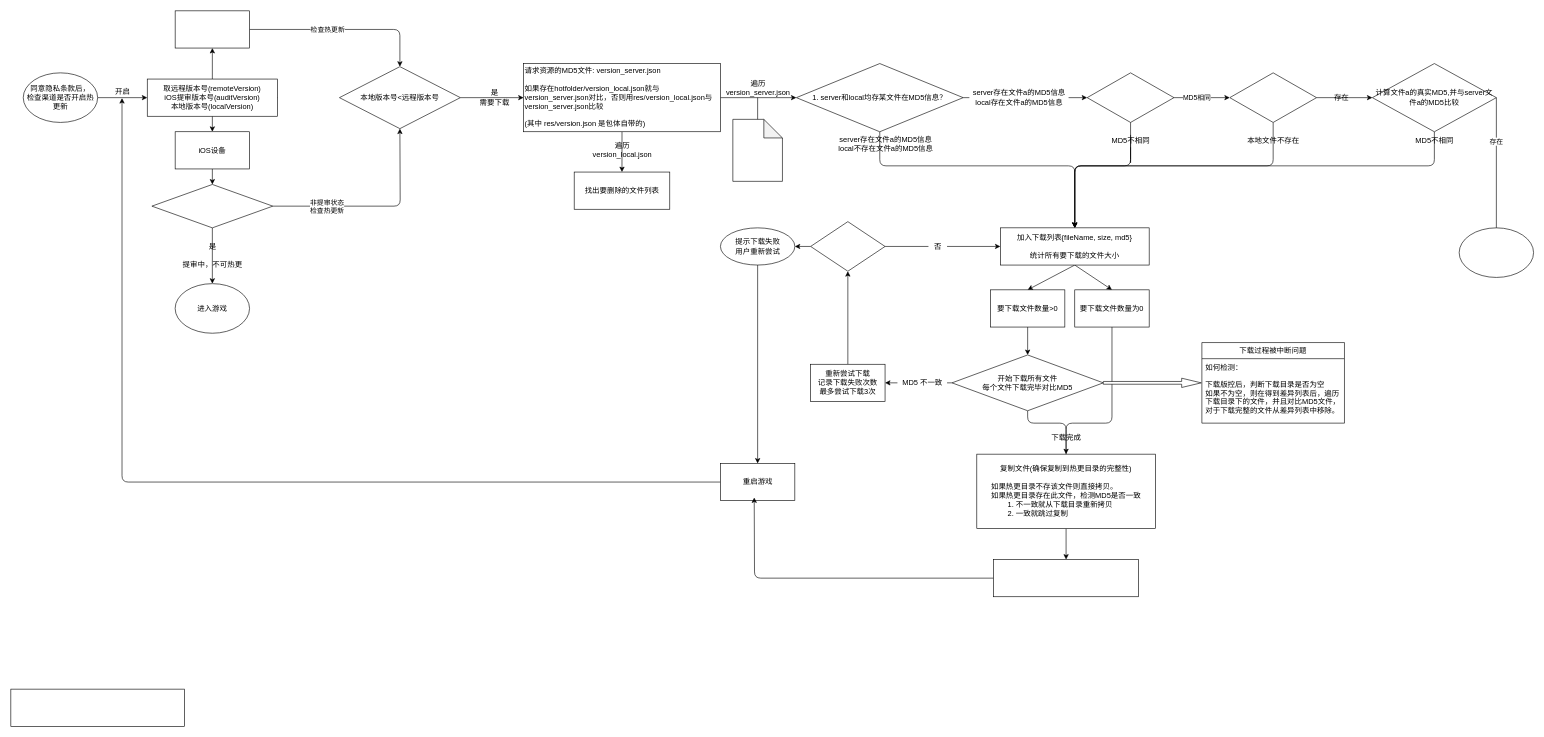
This 1544x737 diagram has some shape labels left out. The shapes that lost their labels are listed below. From the top down, each one's centre as x and y in pixels, then its label:
At (x=212, y=29): "android设备".
At (x=1130, y=97): "MD5信息是否相同？".
At (x=1273, y=97): "本地文件是否存在".
At (x=757, y=150): "为了找出增加，修改的文件".
At (x=212, y=206): "本地版本号==提审版本号".
At (x=847, y=246): "重试次超过3次？".
At (x=1496, y=252): "结束文件a检测".
At (x=1066, y=578): "删除要删除列表中的文件 复制新的版控文件到热更目录 删除下载目录".
At (x=97, y=707): "hotfolder 指热更文件夹".
